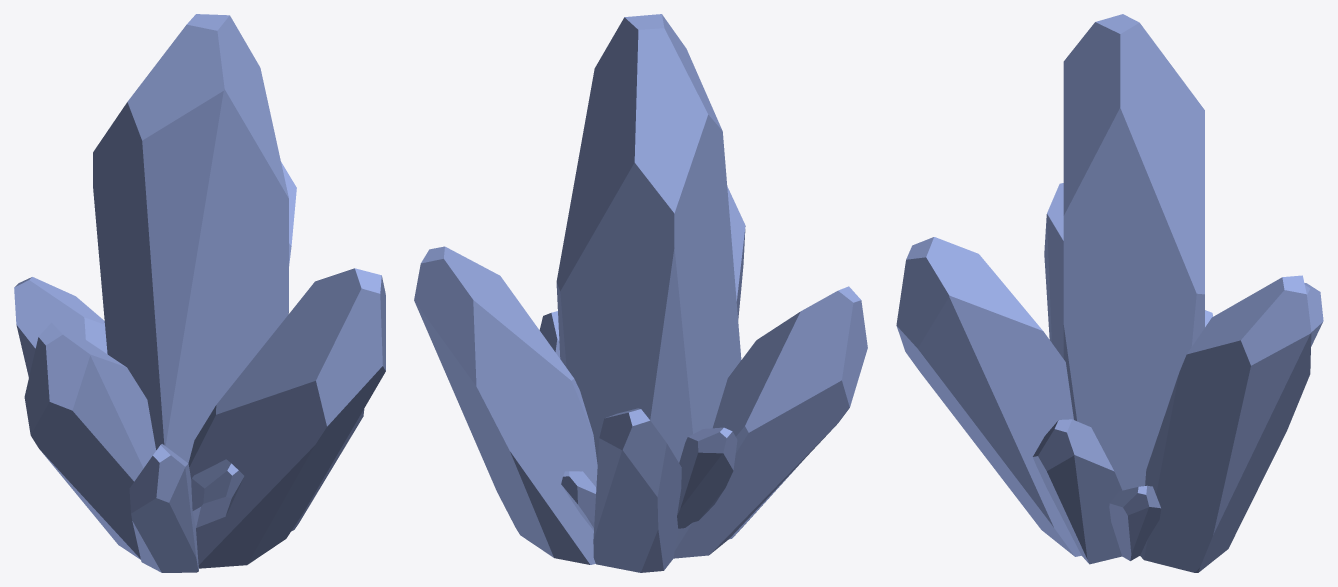
Rendered from crystals_blue.fbx.
3 views of the same model, side by side, from view 1: azimuth 30°, elevation 25°; view 2: azimuth 150°, elevation 25°; view 3: azimuth 270°, elevation 25° (orthographic).
Visible parts, largest first — view 1: Cube.005; view 2: Cube.005; view 3: Cube.005.
Part boxes in pixels (<box>): Cube.005: <box>14,14,385,572</box>; Cube.005: <box>414,14,867,572</box>; Cube.005: <box>896,14,1323,572</box>.
Bounding box in the file's own units: 554 × 791 × 604.
